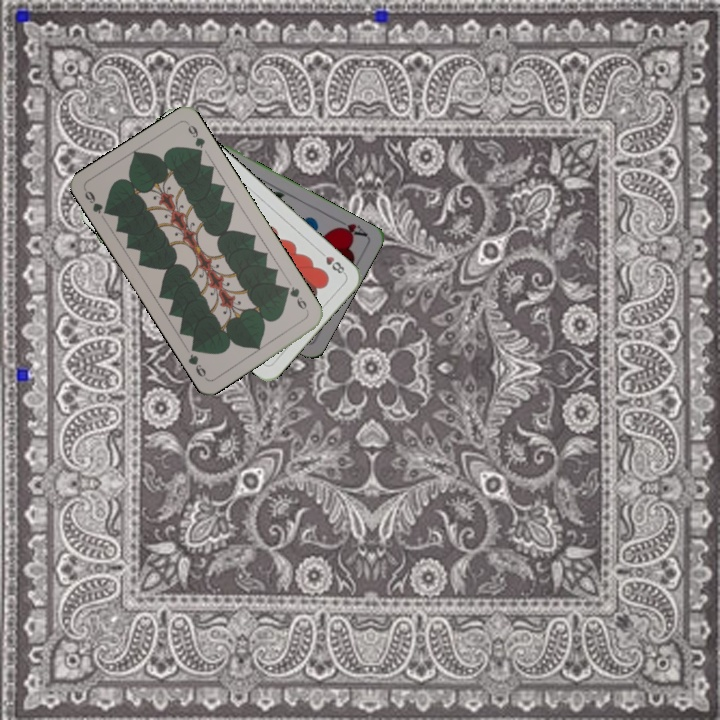G9: (80, 186, 113, 218), (280, 282, 311, 315)
H8: (315, 246, 348, 277)
HA: (331, 214, 370, 240)
